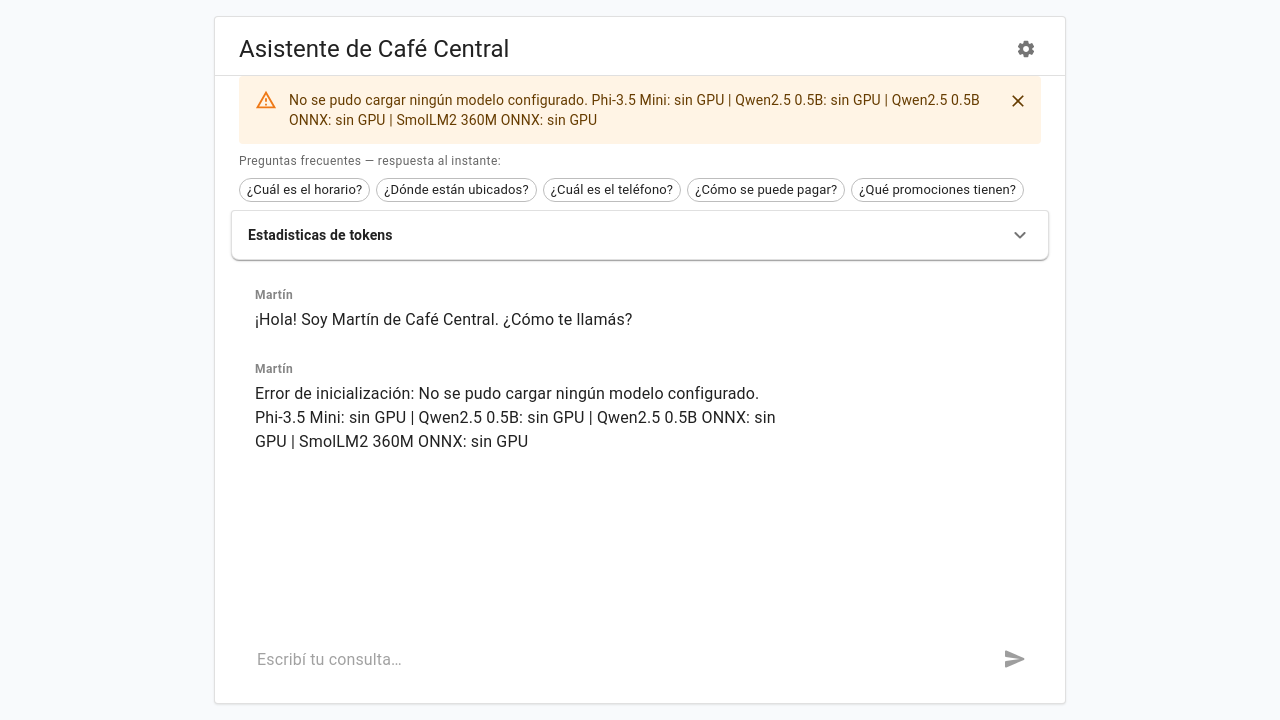
Test case: App › responde con quickLookup cuando el modelo no está cargado
Expected: the text "Error de inicialización" is shown, 255,384 -> 780,451
Type "¿Cuál es el teléfono?" into the text box named "pregunta del cliente" at (610, 659), box 257,648 -> 963,670
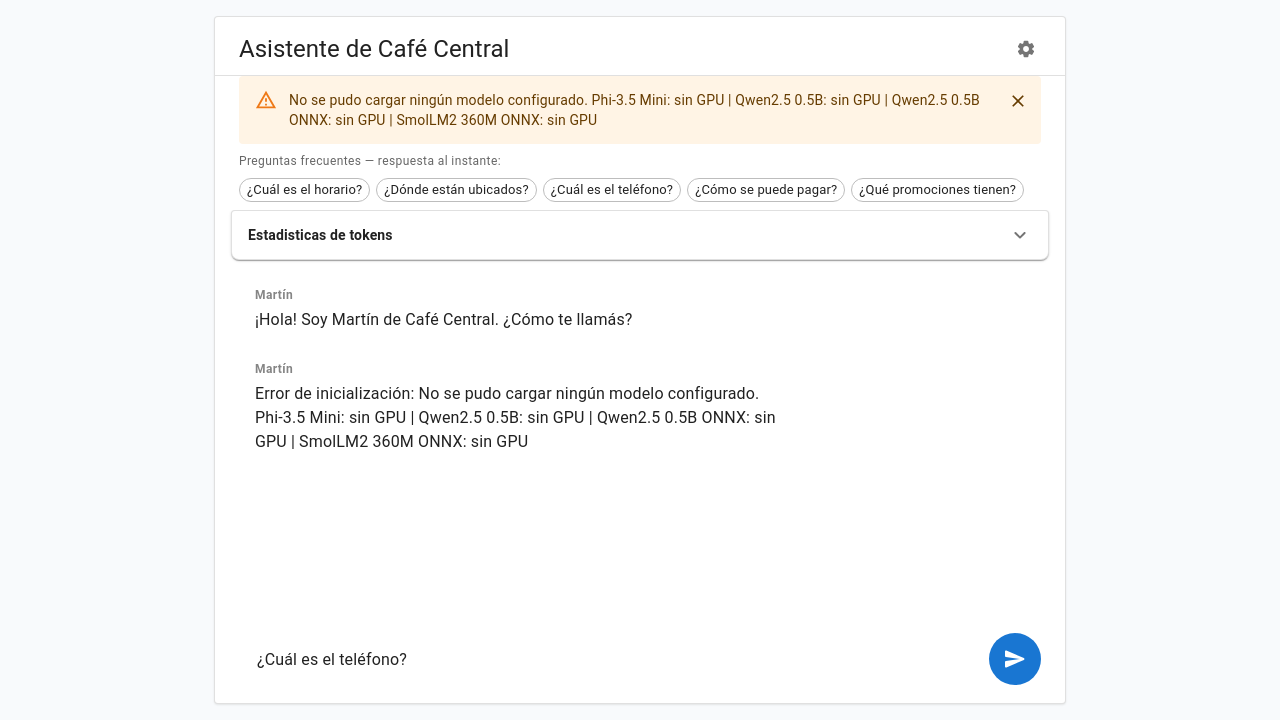
Click the button named "enviar" at (1015, 659), box 989,633 -> 1041,685
(page scrolled)
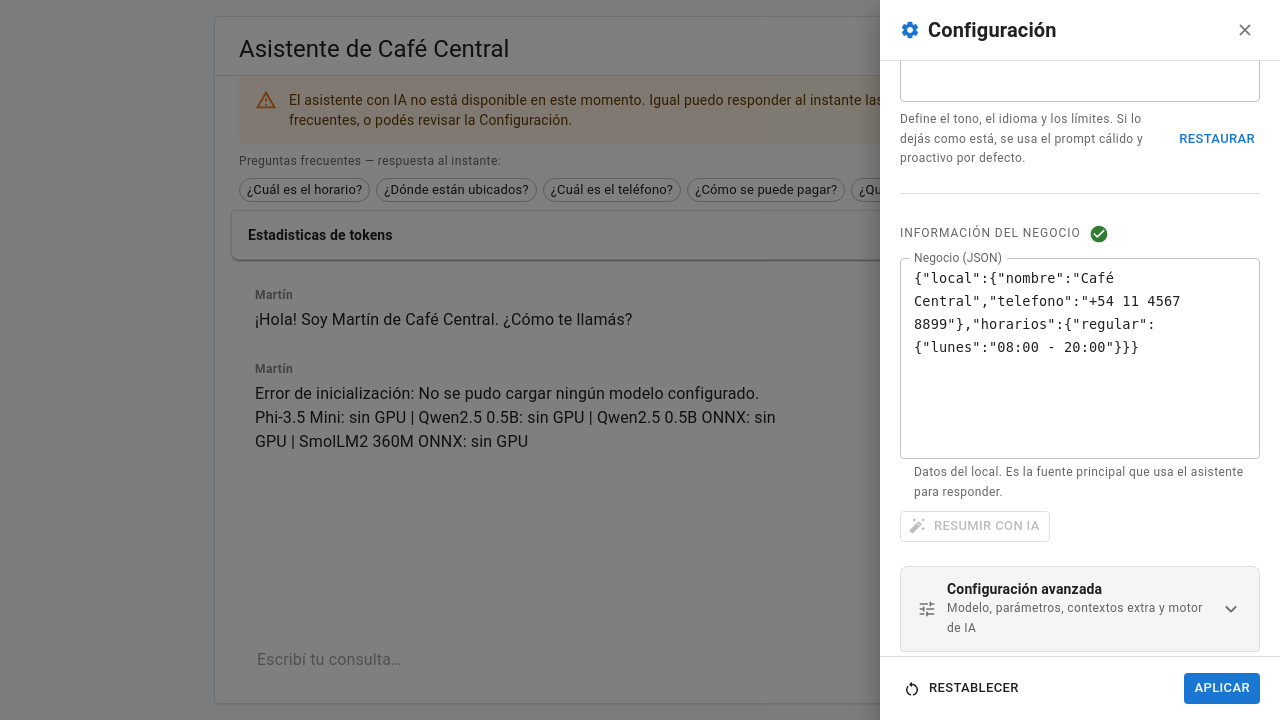
Expected: the text box "+54 11 4567 8899" is shown, 914,267 -> 1246,451
